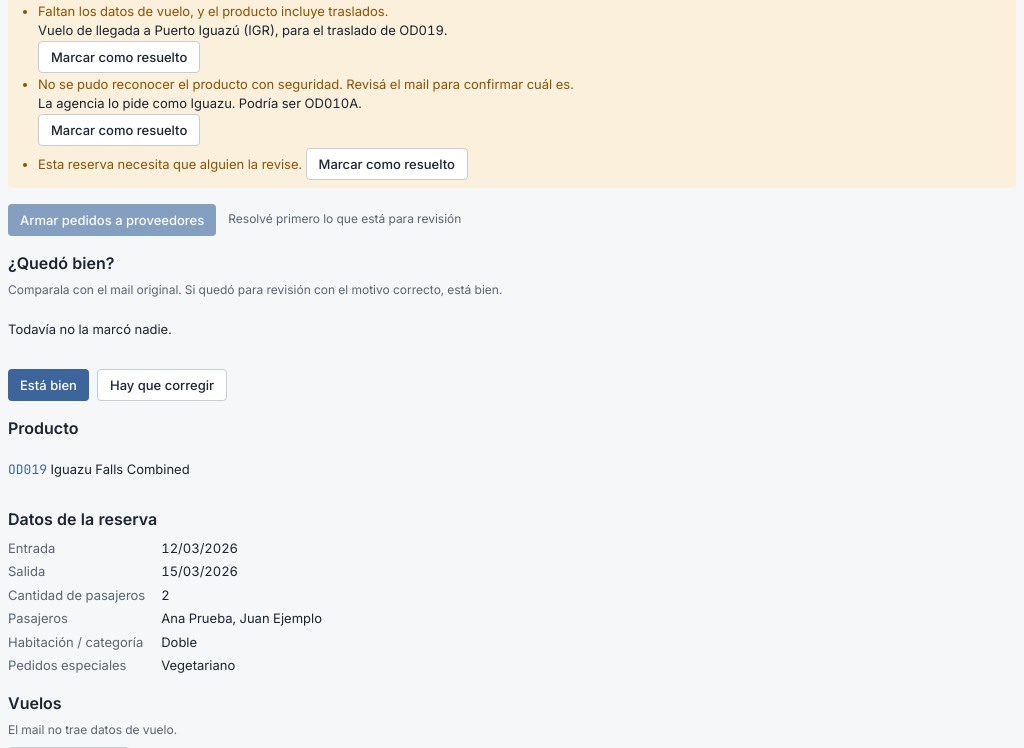
Test: detalle: la marca del owner (fila 13) › una de prueba: 'Está bien' la marca y muestra quién y cuándo
(page scrolled)
Check: the text "Todavía no la marcó nadie." is shown, box [8, 321, 172, 337]
Step 1. Click the button "Está bien" → point(48, 385), box [8, 369, 89, 401]
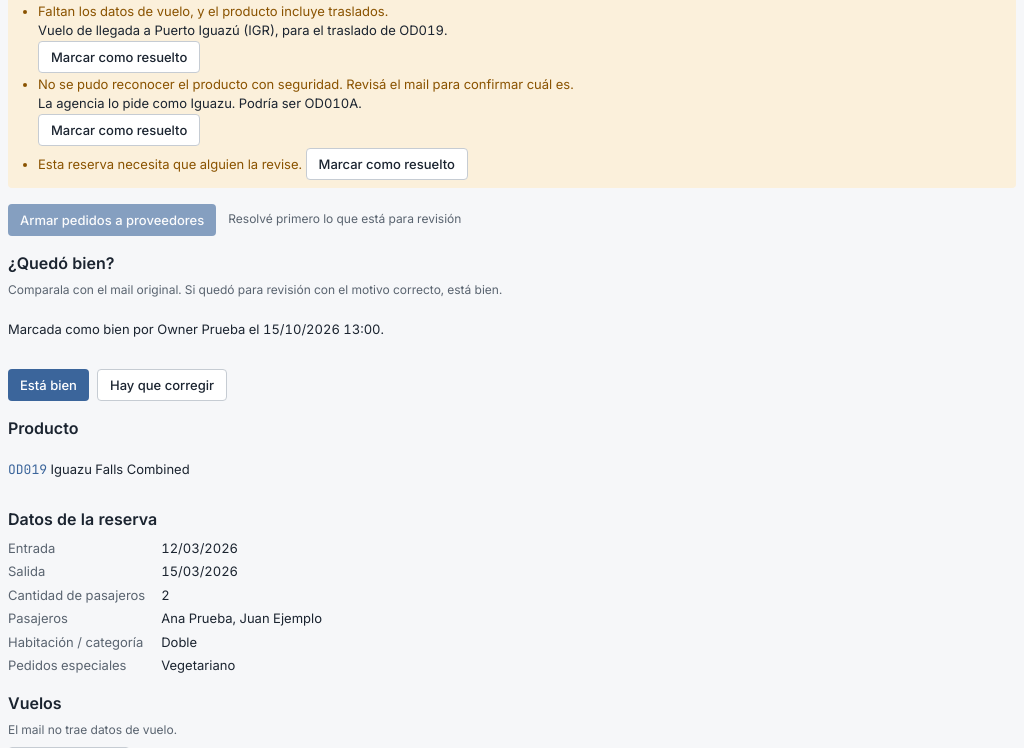
Check: the text "Marcada como bien por Owner Prueba el 15/10/2026 13:00." is shown, box [8, 321, 384, 337]
